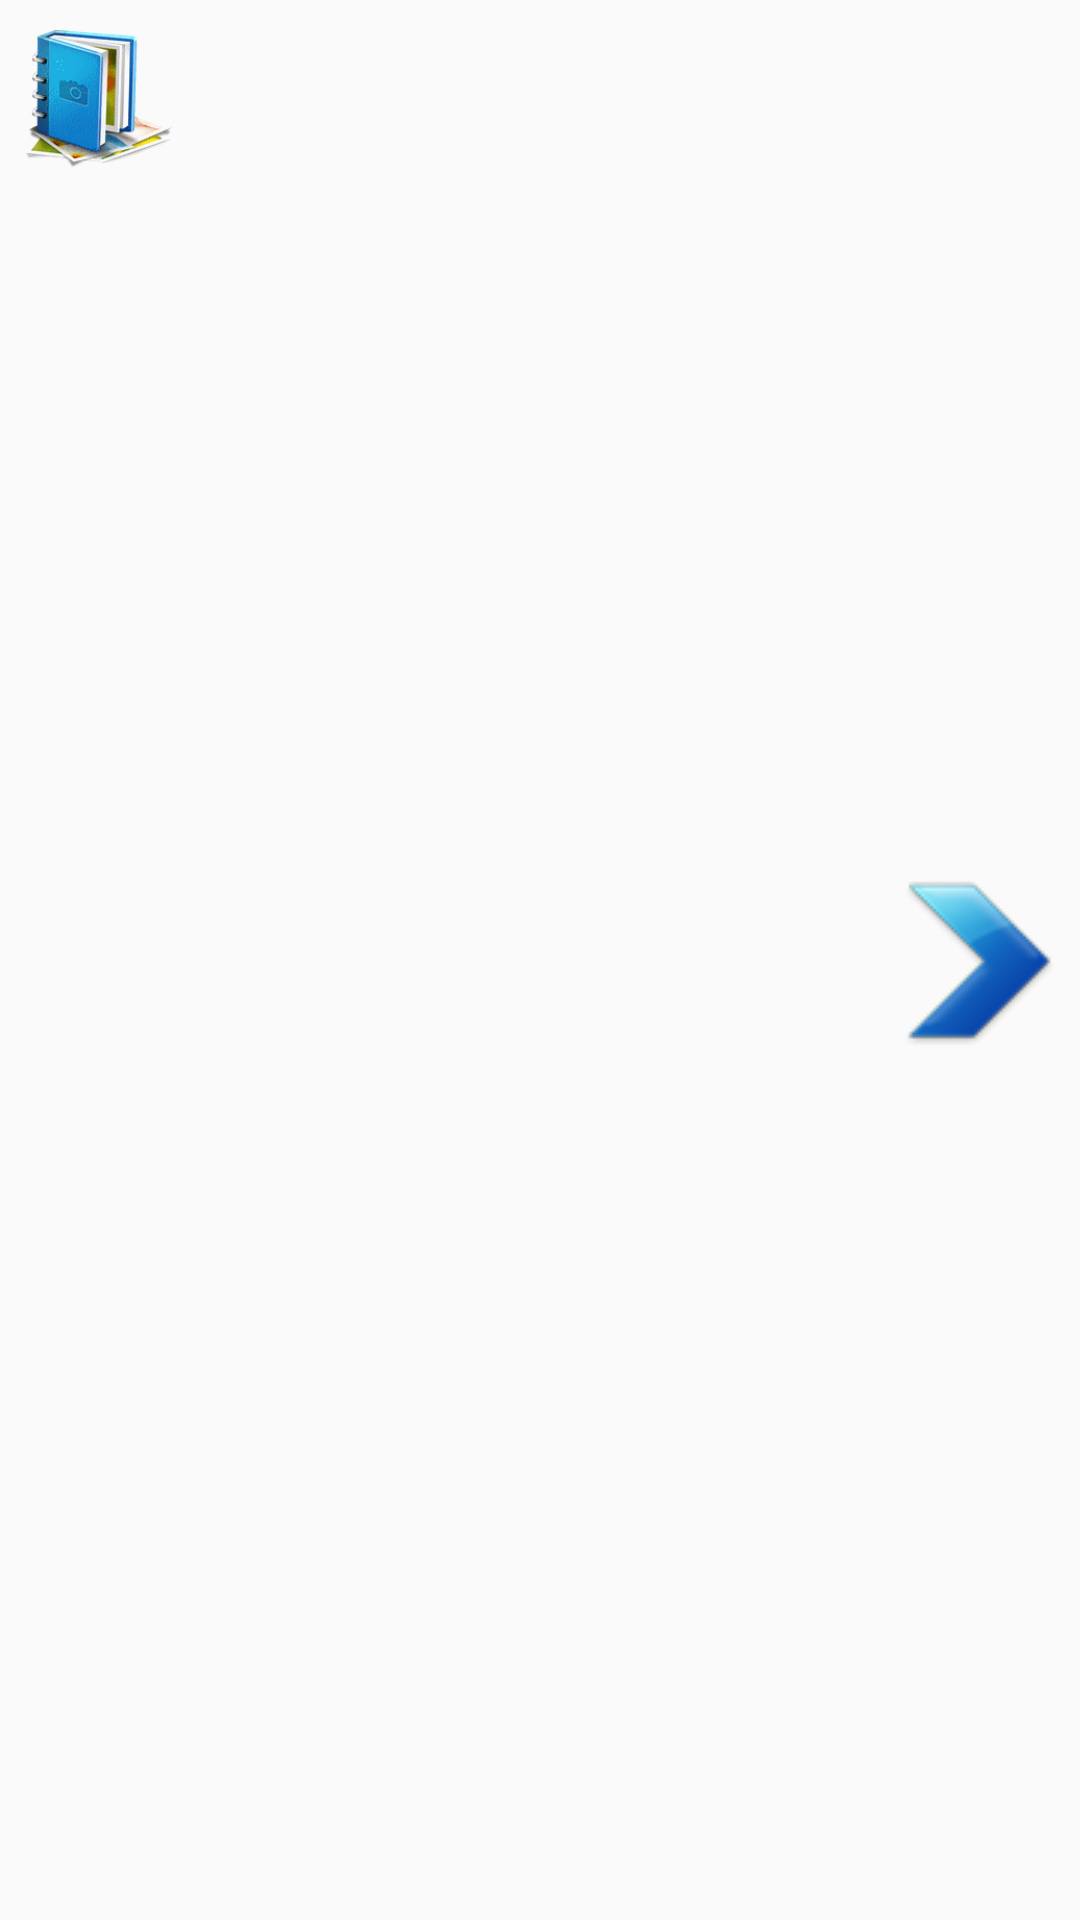

Screen size 1080x1920. Icon name, then its box in pixels as (x1, y1, x2, y2):
album: (27, 30, 170, 166)
arrow: (908, 883, 1051, 1041)
